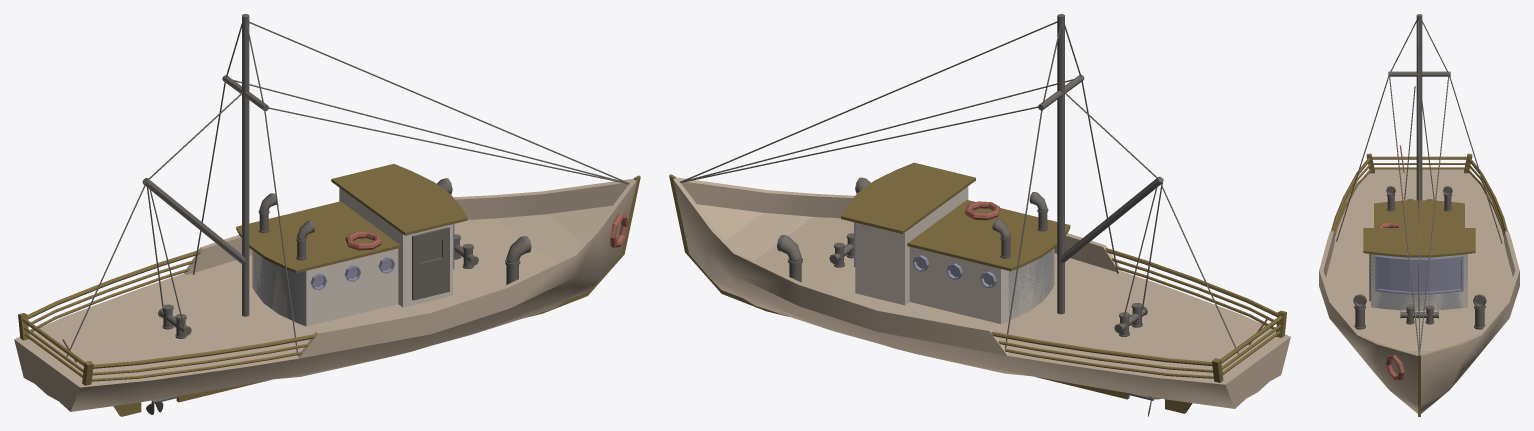
Rendered from ship.fbx.
3 renders of one model, left to right at view 1: azimuth 30°, elevation 25°; view 2: azimuth 150°, elevation 25°; view 3: azimuth 270°, elevation 25°, orthographic. The views are drawn at different scales.
Visible parts, largest first — view 1: pCylinder1, polySurface1, polySurface27, pCylinder14, pCube7, pCylinder2, polySurface22, pCylinder3, pCube3, pCylinder29, pCylinder25, pCylinder26 (+5 smaller); view 2: pCylinder1, polySurface1, polySurface27, pCylinder14, pCylinder2, polySurface22, pCube3, pCylinder3, pCylinder29, pCylinder26, pCylinder25, polySurface8 (+4 smaller); view 3: pCylinder1, polySurface1, polySurface26, polySurface24, pCylinder14, pCylinder2, polySurface27, pCylinder29, pCylinder26, pCylinder25, polySurface20, pCylinder27 (+10 smaller).
Boxes of the visible parts, bbox=[...] form: pCylinder1: bbox=[14, 178, 637, 411]; polySurface1: bbox=[236, 164, 467, 273]; polySurface27: bbox=[252, 188, 452, 326]; pCylinder14: bbox=[18, 249, 315, 385]; pCube7: bbox=[412, 227, 449, 300]; pCylinder2: bbox=[242, 14, 249, 316]; polySurface22: bbox=[252, 252, 306, 326]; pCylinder3: bbox=[142, 178, 246, 264]; pCube3: bbox=[176, 175, 640, 402]; pCylinder29: bbox=[249, 21, 629, 183]; pCylinder25: bbox=[233, 79, 620, 180]; pCylinder26: bbox=[269, 107, 629, 184]; pCylinder1: bbox=[673, 177, 1290, 408]; polySurface1: bbox=[841, 162, 1070, 271]; polySurface27: bbox=[855, 186, 1054, 323]; pCylinder14: bbox=[991, 248, 1286, 382]; pCylinder2: bbox=[1057, 14, 1064, 314]; polySurface22: bbox=[1007, 249, 1053, 319]; pCube3: bbox=[669, 174, 1129, 399]; pCylinder3: bbox=[1060, 176, 1163, 262]; pCylinder29: bbox=[680, 21, 1057, 181]; pCylinder26: bbox=[688, 79, 1073, 179]; pCylinder25: bbox=[680, 106, 1038, 182]; polySurface8: bbox=[777, 235, 802, 282]; pCylinder1: bbox=[1319, 169, 1519, 413]; polySurface1: bbox=[1363, 200, 1475, 257]; polySurface26: bbox=[1375, 255, 1463, 294]; polySurface24: bbox=[1371, 254, 1467, 310]; pCylinder14: bbox=[1331, 153, 1507, 238]; pCylinder2: bbox=[1416, 14, 1422, 200]; polySurface27: bbox=[1371, 254, 1467, 310]; pCylinder29: bbox=[1418, 21, 1419, 355]; pCylinder26: bbox=[1389, 75, 1418, 354]; pCylinder25: bbox=[1420, 75, 1449, 354]; polySurface20: bbox=[1400, 305, 1438, 324]; pCylinder27: bbox=[1336, 20, 1416, 241].
Bounding box in the file's own units: 11.85 × 7.25 × 4.58.
